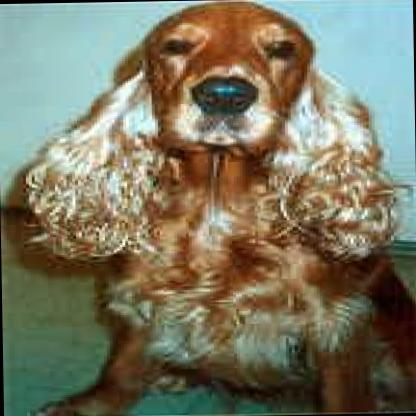cocker_spaniel: (19, 0, 413, 415)
